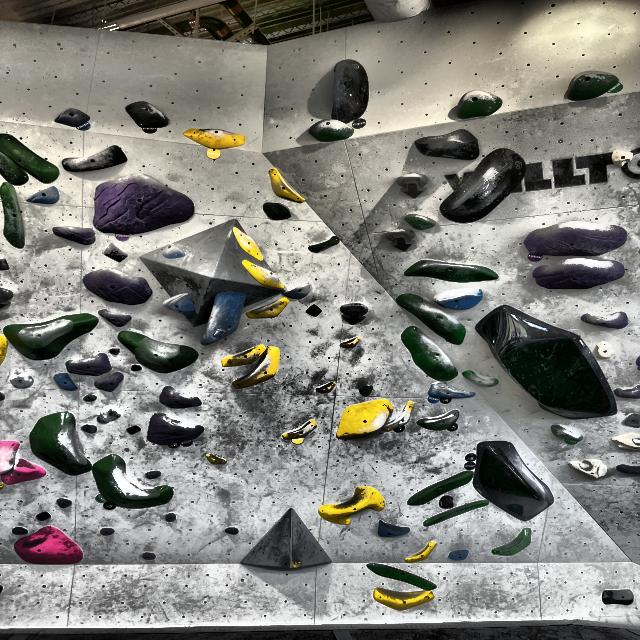hold: (482, 303, 621, 423), (441, 148, 525, 230), (87, 175, 203, 234), (464, 444, 554, 520), (231, 508, 330, 570), (95, 452, 178, 513), (504, 222, 630, 256), (390, 294, 468, 348), (392, 326, 463, 381), (0, 125, 60, 190), (119, 329, 204, 373), (528, 258, 629, 294), (326, 395, 395, 443), (324, 57, 371, 125), (1, 318, 100, 349), (40, 416, 87, 479), (17, 518, 81, 564), (315, 482, 379, 524), (188, 124, 252, 164), (356, 558, 438, 589), (254, 167, 315, 208), (455, 87, 519, 126), (228, 346, 284, 390), (406, 471, 472, 505), (567, 70, 623, 108), (0, 186, 36, 243), (484, 528, 544, 562), (122, 100, 174, 134), (421, 135, 489, 161), (418, 379, 478, 408), (303, 120, 363, 148), (368, 589, 436, 613), (402, 261, 497, 278), (236, 262, 286, 292), (237, 225, 273, 266), (64, 356, 116, 384), (212, 295, 235, 358), (154, 382, 207, 408), (440, 285, 483, 317), (418, 505, 495, 522), (538, 423, 592, 446), (414, 408, 463, 433), (279, 417, 321, 446), (237, 298, 292, 320), (254, 198, 297, 226), (567, 459, 613, 484), (586, 308, 628, 335), (586, 334, 620, 364), (94, 308, 144, 328), (54, 221, 99, 243), (383, 225, 417, 254), (603, 146, 635, 176), (343, 298, 377, 326), (458, 367, 495, 392), (364, 520, 413, 538), (98, 241, 134, 265), (307, 236, 349, 256), (44, 372, 82, 394), (57, 106, 91, 130), (396, 173, 427, 198), (96, 371, 129, 394), (134, 460, 168, 482), (134, 548, 168, 569), (31, 185, 66, 205), (403, 540, 436, 560), (282, 286, 316, 304), (599, 589, 631, 608), (44, 494, 80, 510), (339, 335, 366, 355), (113, 420, 146, 436), (203, 452, 235, 468), (309, 382, 347, 394), (80, 418, 100, 440), (95, 406, 119, 424), (0, 376, 34, 387), (99, 526, 123, 540), (222, 524, 250, 536), (447, 549, 472, 561), (307, 303, 326, 318), (155, 512, 186, 519), (233, 532, 238, 533)
